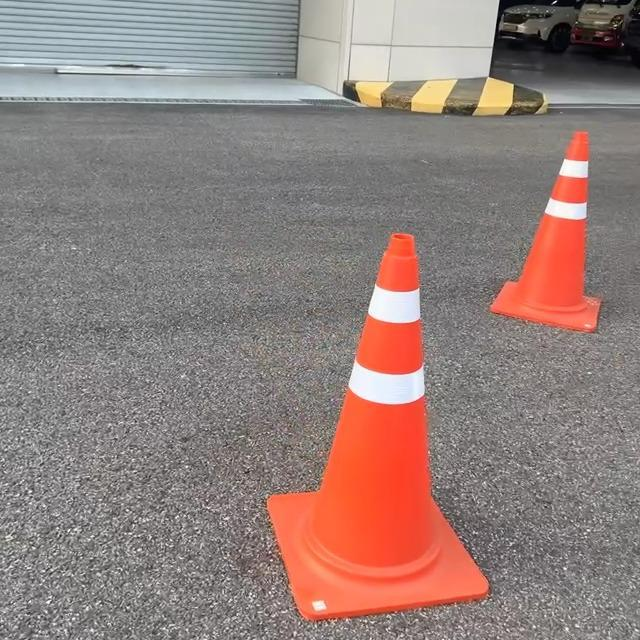fallen_object: (249, 202, 451, 576), (461, 118, 640, 379)
